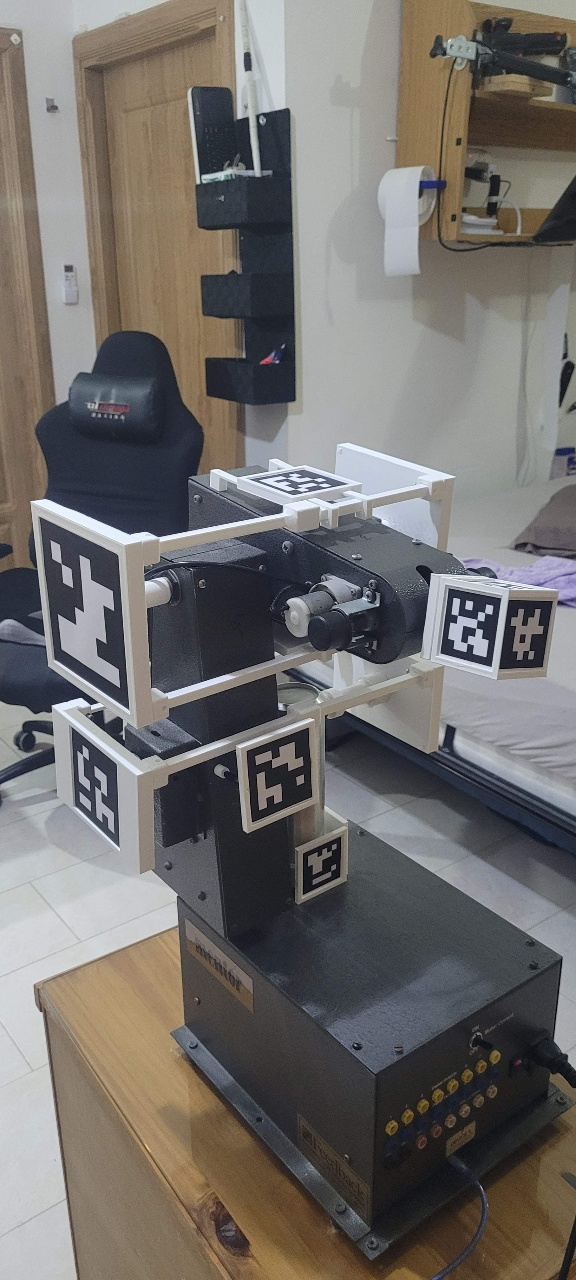Robot: (28, 440, 561, 939)
